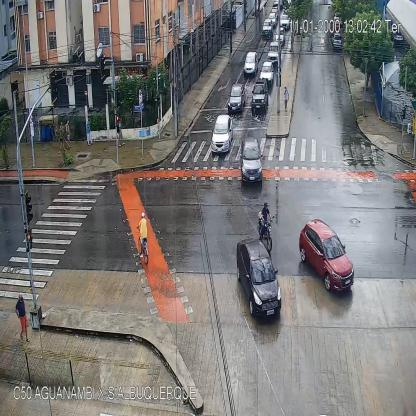bicycle: (136, 212, 149, 264)
car: (299, 219, 354, 291), (236, 238, 281, 316), (241, 137, 263, 185), (212, 115, 233, 153), (252, 79, 268, 114), (228, 84, 246, 114), (244, 51, 258, 75), (260, 62, 274, 85), (267, 41, 280, 64), (262, 19, 273, 37), (276, 27, 286, 45), (332, 32, 342, 48), (280, 14, 289, 29), (268, 12, 276, 27)
motorbike: (258, 202, 274, 250)
person: (15, 294, 29, 342), (118, 116, 125, 146), (59, 122, 66, 150), (65, 120, 71, 147), (284, 86, 288, 112)
